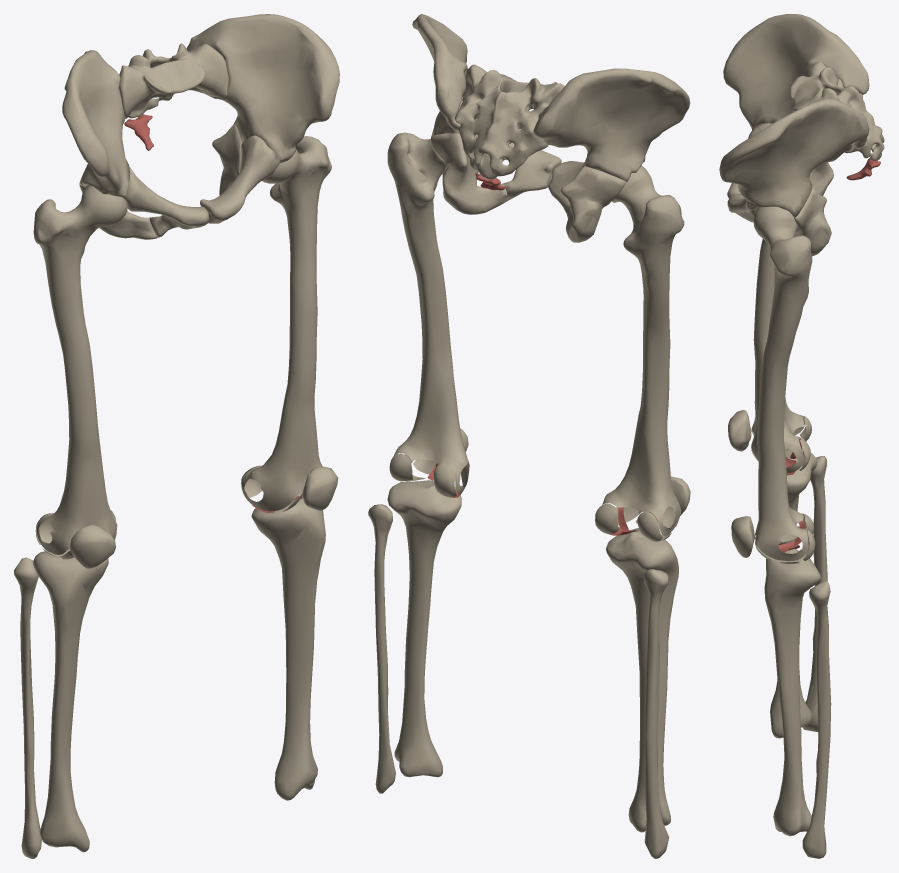
File: adult_female.skeletal.LOD1.glb
3 views of the same model, side by side, from view 1: azimuth 30°, elevation 25°; view 2: azimuth 150°, elevation 25°; view 3: azimuth 270°, elevation 25° (orthographic). The views are drawn at different scales.
Visible parts, largest first — view 1: ADULT.FEMALE.SKELETAL.FEMUR.R, ADULT.FEMALE.SKELETAL.FEMUR.L, ADULT.FEMALE.SKELETAL.ILIUM_COMPACT_BONE.L, ADULT.FEMALE.SKELETAL.TIBIA.L, ADULT.FEMALE.SKELETAL.TIBIA.R, ADULT.FEMALE.SKELETAL.ILIUM_COMPACT_BONE.R, ADULT.FEMALE.SKELETAL.SACRUM, ADULT.FEMALE.SKELETAL.FIBULA.R, ADULT.FEMALE.SKELETAL.PUBIS_COMPACT_BONE.L, ADULT.FEMALE.SKELETAL.PUBIS_COMPACT_BONE.R, ADULT.FEMALE.SKELETAL.PATELLA.R, ADULT.FEMALE.SKELETAL.PATELLA.L (+2 smaller); view 2: ADULT.FEMALE.SKELETAL.FEMUR.R, ADULT.FEMALE.SKELETAL.FEMUR.L, ADULT.FEMALE.SKELETAL.ILIUM_COMPACT_BONE.R, ADULT.FEMALE.SKELETAL.TIBIA.L, ADULT.FEMALE.SKELETAL.SACRUM, ADULT.FEMALE.SKELETAL.TIBIA.R, ADULT.FEMALE.SKELETAL.FIBULA.R, ADULT.FEMALE.SKELETAL.ILIUM_COMPACT_BONE.L, ADULT.FEMALE.SKELETAL.FIBULA.L, ADULT.FEMALE.SKELETAL.ISCHIUM_COMPACT_BONE.L, ADULT.FEMALE.SKELETAL.ISCHIUM_COMPACT_BONE.R, ADULT.FEMALE.SKELETAL.PUBIS_COMPACT_BONE.L (+2 smaller); view 3: ADULT.FEMALE.SKELETAL.FEMUR.L, ADULT.FEMALE.SKELETAL.ILIUM_COMPACT_BONE.L, ADULT.FEMALE.SKELETAL.ILIUM_COMPACT_BONE.R, ADULT.FEMALE.SKELETAL.TIBIA.L, ADULT.FEMALE.SKELETAL.FIBULA.L, ADULT.FEMALE.SKELETAL.FEMUR.R, ADULT.FEMALE.SKELETAL.SACRUM, ADULT.FEMALE.SKELETAL.FIBULA.R, ADULT.FEMALE.SKELETAL.TIBIA.R, ADULT.FEMALE.SKELETAL.ISCHIUM_COMPACT_BONE.L, ADULT.FEMALE.SKELETAL.PATELLA.L, ADULT.FEMALE.SKELETAL.PATELLA.R (+2 smaller).
Part boxes in pixels (<box>): ADULT.FEMALE.SKELETAL.FEMUR.R: <box>33,185,127,554</box>; ADULT.FEMALE.SKELETAL.FEMUR.L: <box>241,136,331,511</box>; ADULT.FEMALE.SKELETAL.ILIUM_COMPACT_BONE.L: <box>186,14,339,163</box>; ADULT.FEMALE.SKELETAL.TIBIA.L: <box>251,494,325,800</box>; ADULT.FEMALE.SKELETAL.TIBIA.R: <box>33,551,108,852</box>; ADULT.FEMALE.SKELETAL.ILIUM_COMPACT_BONE.R: <box>62,50,129,197</box>; ADULT.FEMALE.SKELETAL.SACRUM: <box>119,43,228,118</box>; ADULT.FEMALE.SKELETAL.FIBULA.R: <box>14,557,41,858</box>; ADULT.FEMALE.SKELETAL.PUBIS_COMPACT_BONE.L: <box>200,135,280,223</box>; ADULT.FEMALE.SKELETAL.PUBIS_COMPACT_BONE.R: <box>123,166,209,237</box>; ADULT.FEMALE.SKELETAL.PATELLA.R: <box>69,524,115,568</box>; ADULT.FEMALE.SKELETAL.PATELLA.L: <box>302,466,338,510</box>; ADULT.FEMALE.SKELETAL.FEMUR.R: <box>600,165,684,536</box>; ADULT.FEMALE.SKELETAL.FEMUR.L: <box>387,132,469,494</box>; ADULT.FEMALE.SKELETAL.ILIUM_COMPACT_BONE.R: <box>533,68,690,181</box>; ADULT.FEMALE.SKELETAL.TIBIA.L: <box>387,480,461,777</box>; ADULT.FEMALE.SKELETAL.SACRUM: <box>455,64,564,179</box>; ADULT.FEMALE.SKELETAL.TIBIA.R: <box>606,528,678,832</box>; ADULT.FEMALE.SKELETAL.FIBULA.R: <box>643,569,669,858</box>; ADULT.FEMALE.SKELETAL.ILIUM_COMPACT_BONE.L: <box>412,14,476,135</box>; ADULT.FEMALE.SKELETAL.FIBULA.L: <box>368,504,395,793</box>; ADULT.FEMALE.SKELETAL.ISCHIUM_COMPACT_BONE.L: <box>431,133,507,214</box>; ADULT.FEMALE.SKELETAL.ISCHIUM_COMPACT_BONE.R: <box>560,166,626,242</box>; ADULT.FEMALE.SKELETAL.PUBIS_COMPACT_BONE.L: <box>475,134,561,201</box>; ADULT.FEMALE.SKELETAL.FEMUR.L: <box>753,206,812,561</box>; ADULT.FEMALE.SKELETAL.ILIUM_COMPACT_BONE.L: <box>719,98,869,217</box>; ADULT.FEMALE.SKELETAL.ILIUM_COMPACT_BONE.R: <box>723,14,869,129</box>; ADULT.FEMALE.SKELETAL.TIBIA.L: <box>764,548,820,836</box>; ADULT.FEMALE.SKELETAL.FIBULA.L: <box>802,581,831,858</box>; ADULT.FEMALE.SKELETAL.FEMUR.R: <box>751,239,804,473</box>; ADULT.FEMALE.SKELETAL.SACRUM: <box>790,61,884,160</box>; ADULT.FEMALE.SKELETAL.FIBULA.R: <box>802,456,827,731</box>; ADULT.FEMALE.SKELETAL.TIBIA.R: <box>770,448,817,738</box>; ADULT.FEMALE.SKELETAL.ISCHIUM_COMPACT_BONE.L: <box>794,186,831,256</box>; ADULT.FEMALE.SKELETAL.PATELLA.L: <box>731,516,754,557</box>; ADULT.FEMALE.SKELETAL.PATELLA.R: <box>728,410,751,451</box>.
Bounding box in the file's own units: 0.3597 × 0.8979 × 0.1827.
